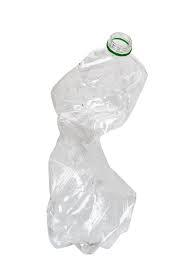Plastic: (14, 21, 145, 267)
